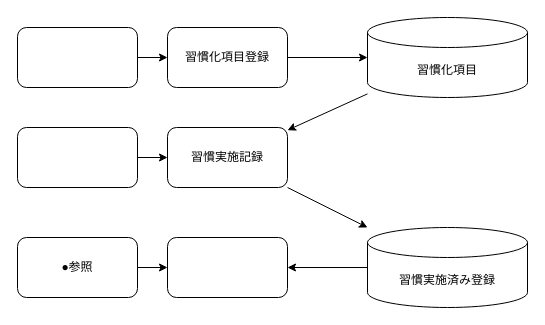
Some shapes in this 545 by 325 pixel diagram are drawn without their labels. Here are the shapes that lost their labels. From the top down, the centre of each, then its label:
At point 77,57: "●準備".
At point 77,157: "習慣の実施".
At point 227,267: "習慣実施参照".
